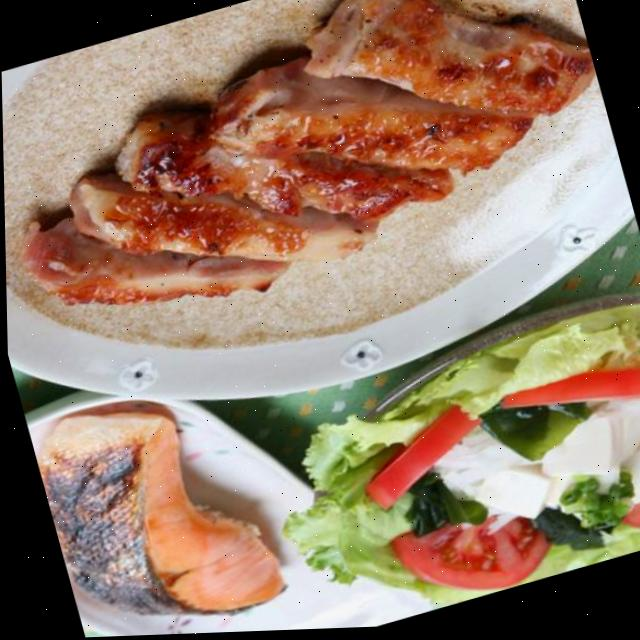熟制海鲜: (18, 342, 331, 640)
